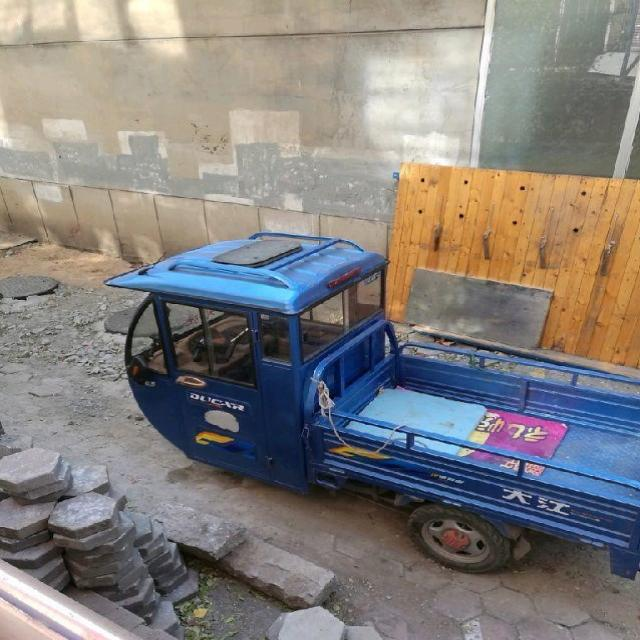tricycle: (102, 227, 639, 583)
